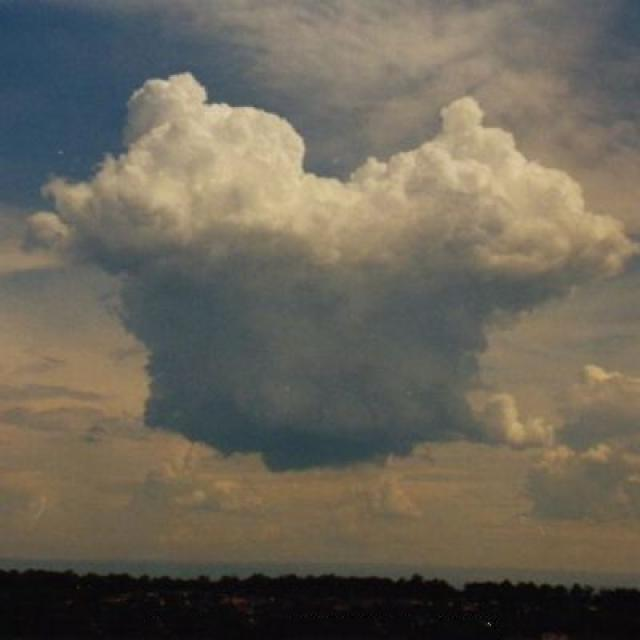Cu: (39, 69, 639, 488)
